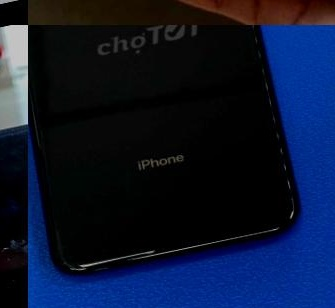scratch: (0, 97, 28, 212), (0, 222, 28, 285), (154, 238, 194, 255), (62, 256, 90, 275), (269, 218, 291, 231)
